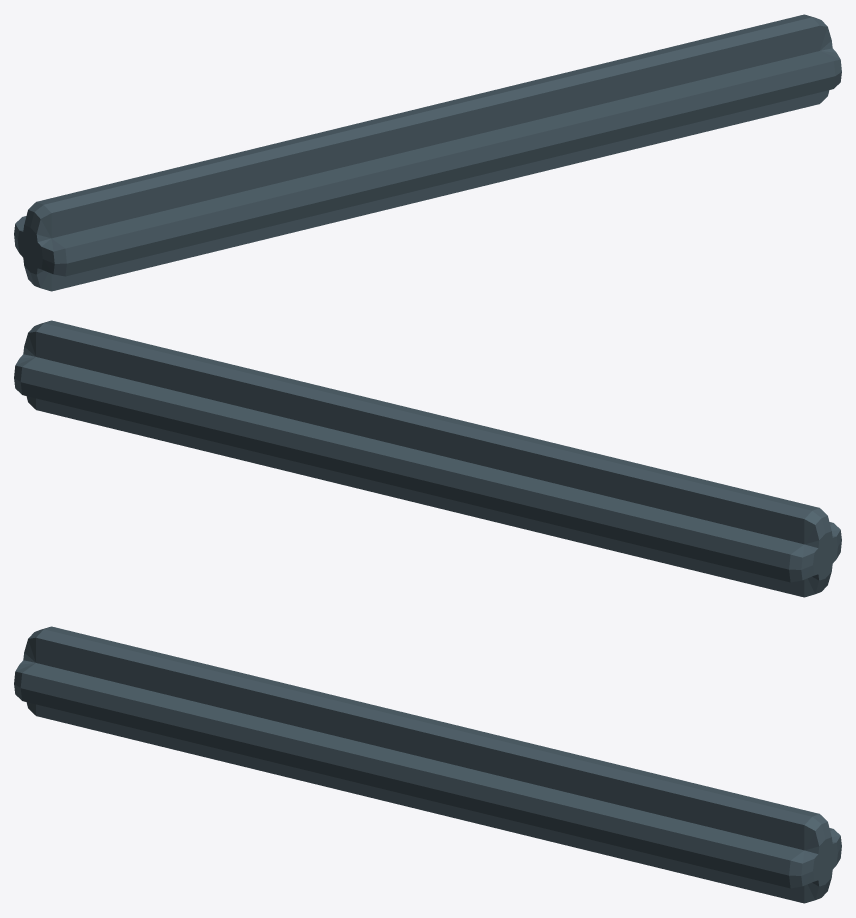
3 renders of one model, top to bottom at view 1: azimuth 30°, elevation 25°; view 2: azimuth 150°, elevation 25°; view 3: azimuth 330°, elevation 25°, orthographic.
Visible parts, largest first — view 1: world; view 2: world; view 3: world.
Part boxes in pixels (x1,y1,x2,y2): world: [14, 14, 841, 291]; world: [14, 320, 841, 597]; world: [14, 626, 841, 903].
Bounding box in the file's own units: 0.0476 × 0.0048 × 0.0048.
